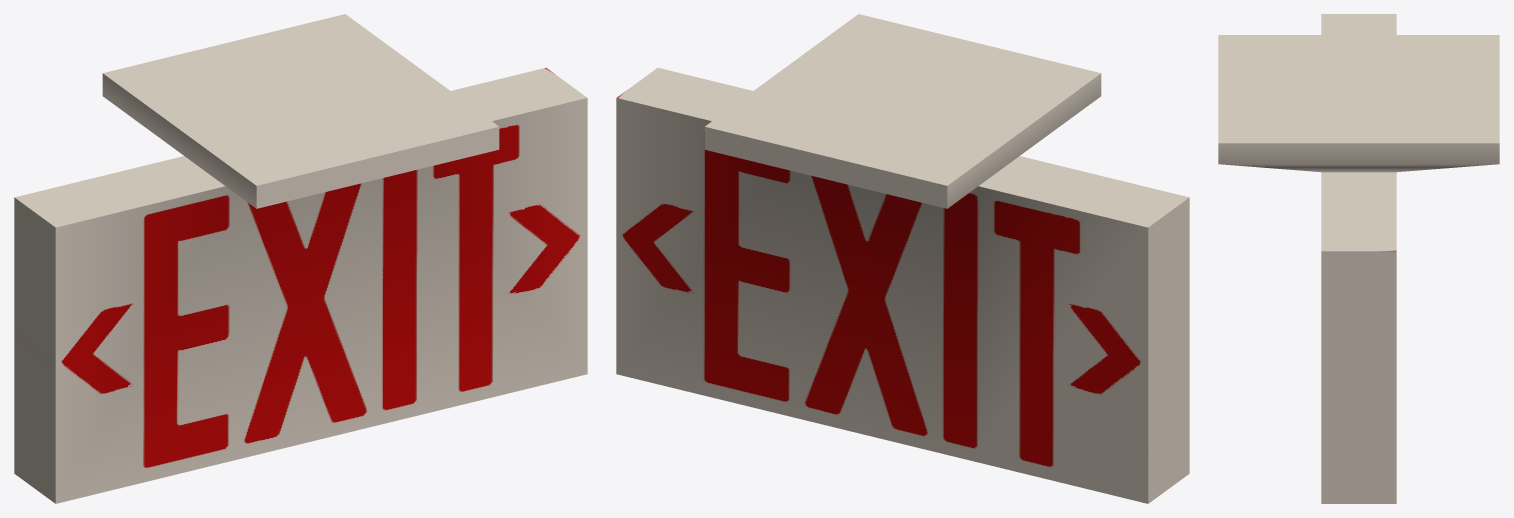
The model's file is exit_sign.fbx.
The picture shows the model from 3 angles, left to right: view 1: azimuth 30°, elevation 25°; view 2: azimuth 150°, elevation 25°; view 3: azimuth 270°, elevation 25°; orthographic projection. The views are drawn at different scales.
Parts seen in each view (by area): view 1: pCube1; view 2: pCube1; view 3: pCube1.
Boxes of the visible parts, bbox=[...] form: pCube1: bbox=[14, 14, 587, 503]; pCube1: bbox=[616, 14, 1189, 503]; pCube1: bbox=[1218, 14, 1499, 503].
Size of the model in its own units: 2.01 by 1.17 by 1.01.
1 material, 1 textured.
